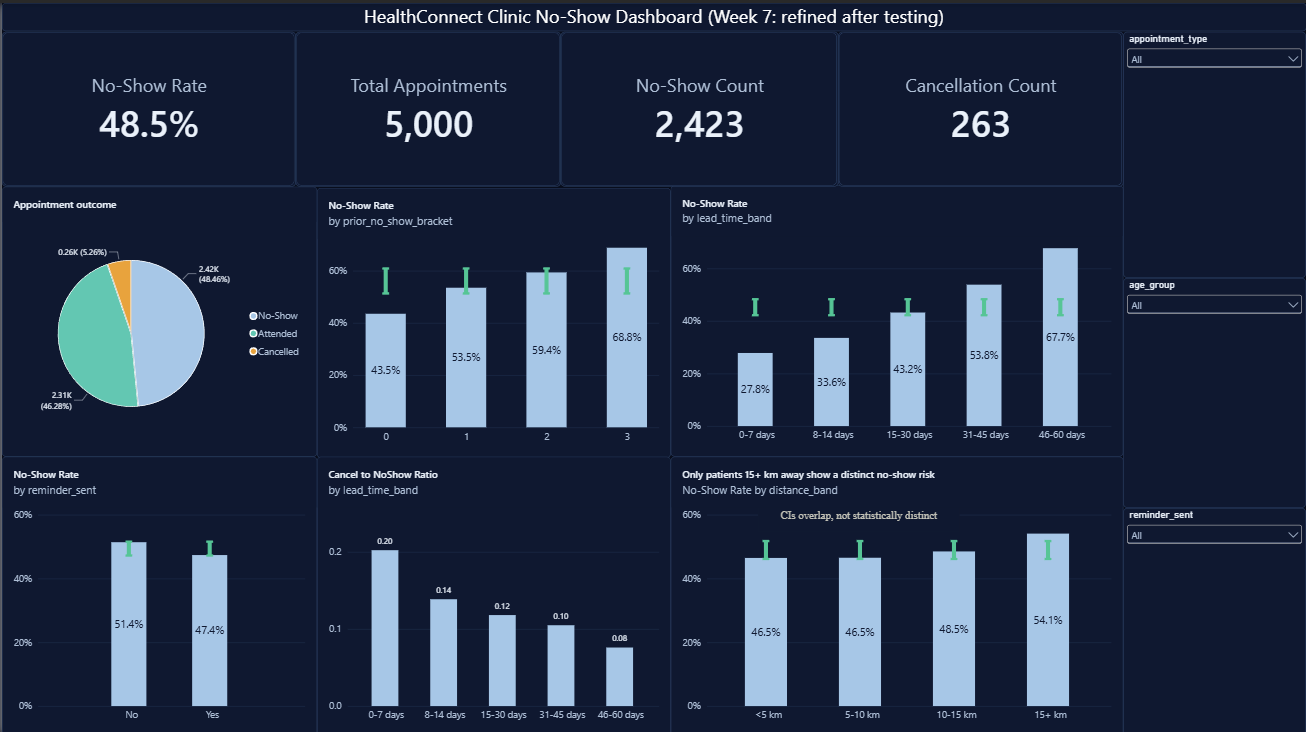

What the dashboard file says about the page in this screenshot:
{"tool":"powerbi","page":{"name":"Page 1","canvas":[1920,1080],"ordinal":0},"visuals":[{"type":"pieChart","title":"Appointment outcome","fields":{"Category":["healthconnect_appointments_prepared.appointment_outcome"],"Y":["CountNonNull(healthconnect_appointments_prepared.appointment_id)"]},"box":[0,270.6,463.8,397.5],"z":0},{"type":"clusteredColumnChart","fields":{"Y":["healthconnect_appointments_prepared.No-Show Rate"],"Category":["healthconnect_appointments_prepared.prior_no_show_bracket"]},"box":[463.8,272.4,520.9,397.5],"z":1000},{"type":"clusteredColumnChart","title":"Only patients 15+ km away show a distinct no-show risk","fields":{"Y":["healthconnect_appointments_prepared.No-Show Rate"],"Category":["healthconnect_appointments_prepared.distance_band"]},"box":[984.7,668.1,666.3,412.3],"z":2000},{"type":"clusteredColumnChart","fields":{"Y":["healthconnect_appointments_prepared.No-Show Rate"],"Category":["healthconnect_appointments_prepared.reminder_sent"]},"box":[0,668.1,463.8,412.3],"z":3000},{"type":"clusteredColumnChart","fields":{"Category":["healthconnect_appointments_prepared.lead_time_band"],"Y":["healthconnect_appointments_prepared.No-Show Rate"]},"box":[984.7,268.7,666.3,399.4],"z":4000},{"type":"clusteredColumnChart","fields":{"Y":["healthconnect_appointments_prepared.Cancel to NoShow Ratio"],"Category":["healthconnect_appointments_prepared.lead_time_band"]},"box":[463.8,668.1,520.9,412.3],"z":5000},{"type":"textbox","box":[0,0,1920.4,41.7],"z":6000},{"type":"cardVisual","fields":{"Data":["healthconnect_appointments_prepared.No-Show Rate"]},"box":[0,42.3,432.5,228.2],"z":7000},{"type":"cardVisual","fields":{"Data":["healthconnect_appointments_prepared.Total Appointments"]},"box":[432.5,42.3,390.2,228.2],"z":8000},{"type":"cardVisual","fields":{"Data":["healthconnect_appointments_prepared.No-Show Count"]},"box":[822.7,42.3,408.6,228.2],"z":9000},{"type":"cardVisual","fields":{"Data":["healthconnect_appointments_prepared.Cancellation Count"]},"box":[1231.3,42.3,419.6,228.2],"z":10000},{"type":"textbox","box":[1113.5,743.6,296.3,35],"z":11000},{"type":"slicer","fields":{"Values":["healthconnect_appointments_prepared.appointment_type"]},"box":[1650.9,42.3,268.7,362.6],"z":11001},{"type":"slicer","fields":{"Values":["healthconnect_appointments_prepared.age_group"]},"box":[1650.9,404.9,268.7,338.7],"z":11002},{"type":"slicer","fields":{"Values":["healthconnect_appointments_prepared.reminder_sent"]},"box":[1650.9,743.6,268.7,336.8],"z":11003}]}

Visuals, with their boxes in screenshot pixels (x1, y1, x2, y2), scaled from the page's 1920x1080 canvas onto the 1306x732 screenshot:
"Appointment outcome" pieChart: [left=0, top=183, right=315, bottom=453]
clusteredColumnChart - healthconnect_appointments_prepared.No-Show Rate x healthconnect_appointments_prepared.prior_no_show_bracket: [left=315, top=185, right=670, bottom=454]
"Only patients 15+ km away show a distinct no-show risk" clusteredColumnChart: [left=670, top=453, right=1123, bottom=731]
clusteredColumnChart - healthconnect_appointments_prepared.No-Show Rate x healthconnect_appointments_prepared.reminder_sent: [left=0, top=453, right=315, bottom=731]
clusteredColumnChart - healthconnect_appointments_prepared.lead_time_band x healthconnect_appointments_prepared.No-Show Rate: [left=670, top=182, right=1123, bottom=453]
clusteredColumnChart - healthconnect_appointments_prepared.Cancel to NoShow Ratio x healthconnect_appointments_prepared.lead_time_band: [left=315, top=453, right=670, bottom=731]
textbox: [left=0, top=0, right=1305, bottom=28]
cardVisual - healthconnect_appointments_prepared.No-Show Rate: [left=0, top=29, right=294, bottom=183]
cardVisual - healthconnect_appointments_prepared.Total Appointments: [left=294, top=29, right=560, bottom=183]
cardVisual - healthconnect_appointments_prepared.No-Show Count: [left=560, top=29, right=838, bottom=183]
cardVisual - healthconnect_appointments_prepared.Cancellation Count: [left=838, top=29, right=1123, bottom=183]
textbox: [left=757, top=504, right=959, bottom=528]
slicer - healthconnect_appointments_prepared.appointment_type: [left=1123, top=29, right=1305, bottom=274]
slicer - healthconnect_appointments_prepared.age_group: [left=1123, top=274, right=1305, bottom=504]
slicer - healthconnect_appointments_prepared.reminder_sent: [left=1123, top=504, right=1305, bottom=731]
